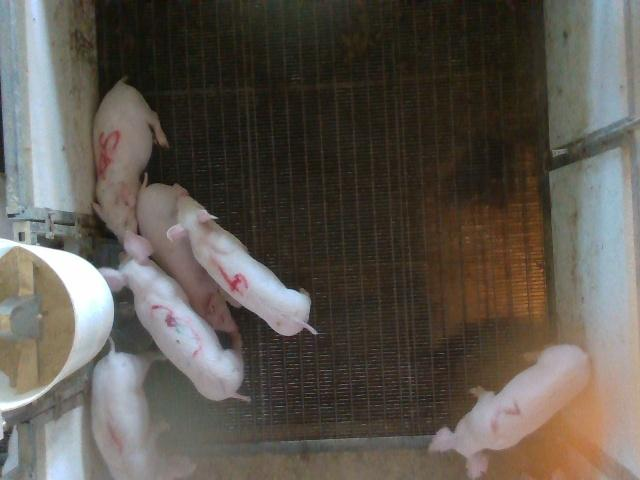pig-1: (92, 339, 150, 479)
pig-2: (429, 345, 591, 478)
pig-3: (100, 231, 244, 401)
pig-4: (168, 194, 318, 336)
pig-5: (94, 78, 169, 242)
